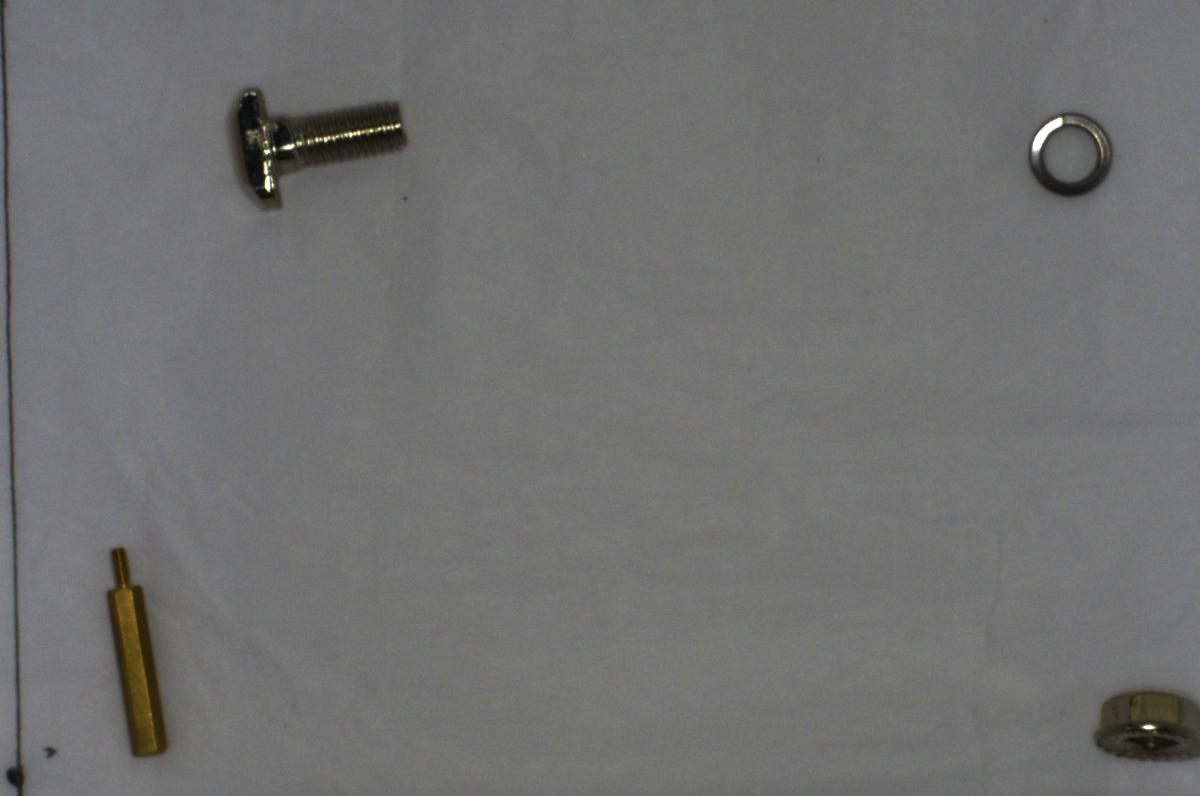Flange nut: (1086, 676, 1199, 765)
Hexagon pillar: (98, 538, 180, 768)
Spring washer: (1017, 88, 1133, 210)
T-shaped screw: (219, 69, 420, 222)
